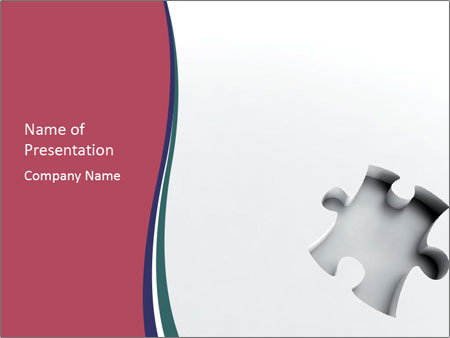puzzle piece: (300, 135, 450, 326)
